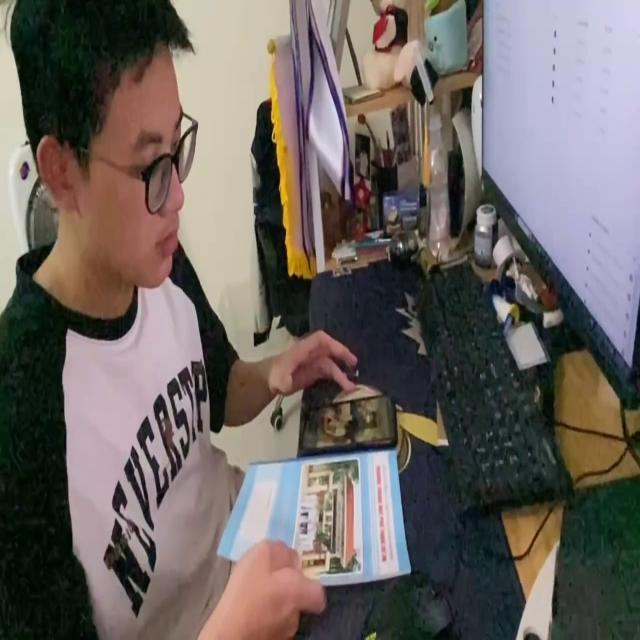book: (217, 448, 412, 607)
laptop: (479, 4, 640, 414)
phone: (297, 390, 399, 453)
student: (0, 0, 362, 640)
